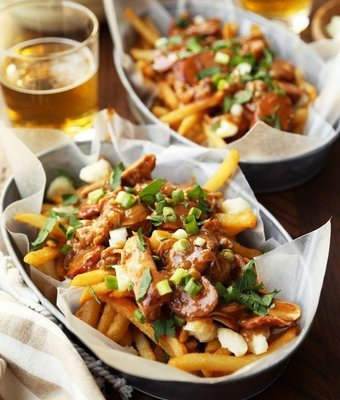pizza: (0, 1, 101, 130), (233, 0, 315, 34)
sushi: (103, 0, 340, 194)
